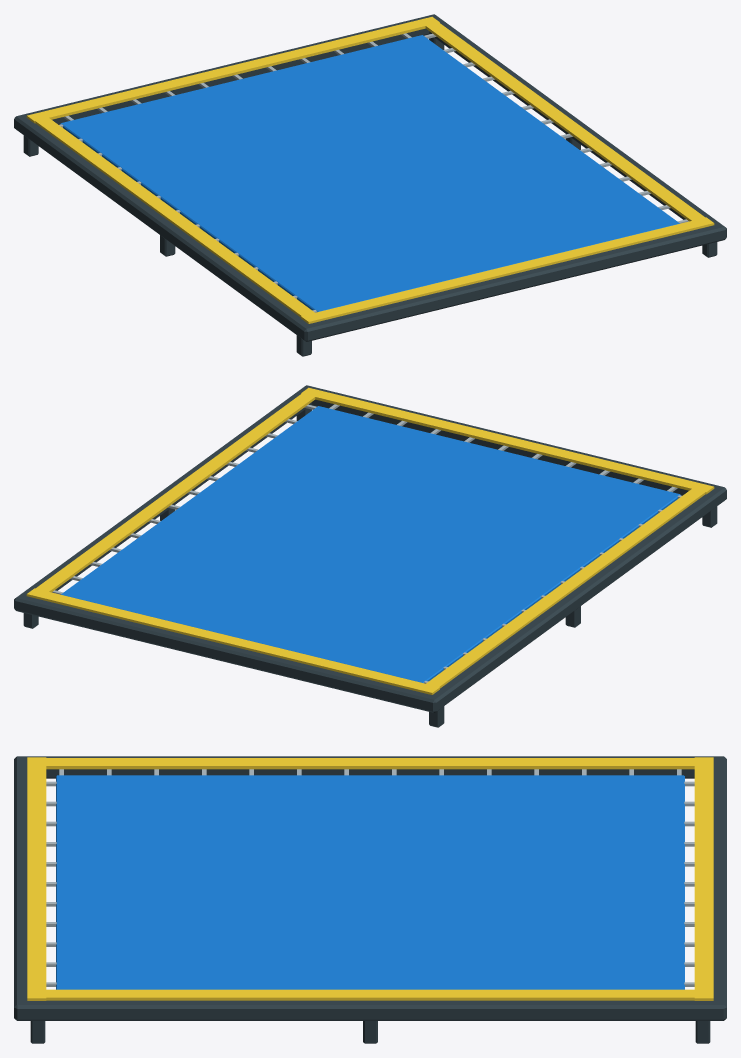
The model's file is trampolim.glb.
3 views of the same model, one above another, from view 1: azimuth 30°, elevation 25°; view 2: azimuth 150°, elevation 25°; view 3: azimuth 270°, elevation 25° (orthographic). The views are drawn at different scales.
Parts seen in each view (by area): view 1: trampolim; view 2: trampolim; view 3: trampolim.
Part boxes in pixels (bbox=[...]): trampolim: bbox=[14, 14, 726, 356]; trampolim: bbox=[14, 385, 726, 727]; trampolim: bbox=[14, 756, 726, 1043].
Bounding box in the file's own units: 10.01 × 0.8 × 12.01.
